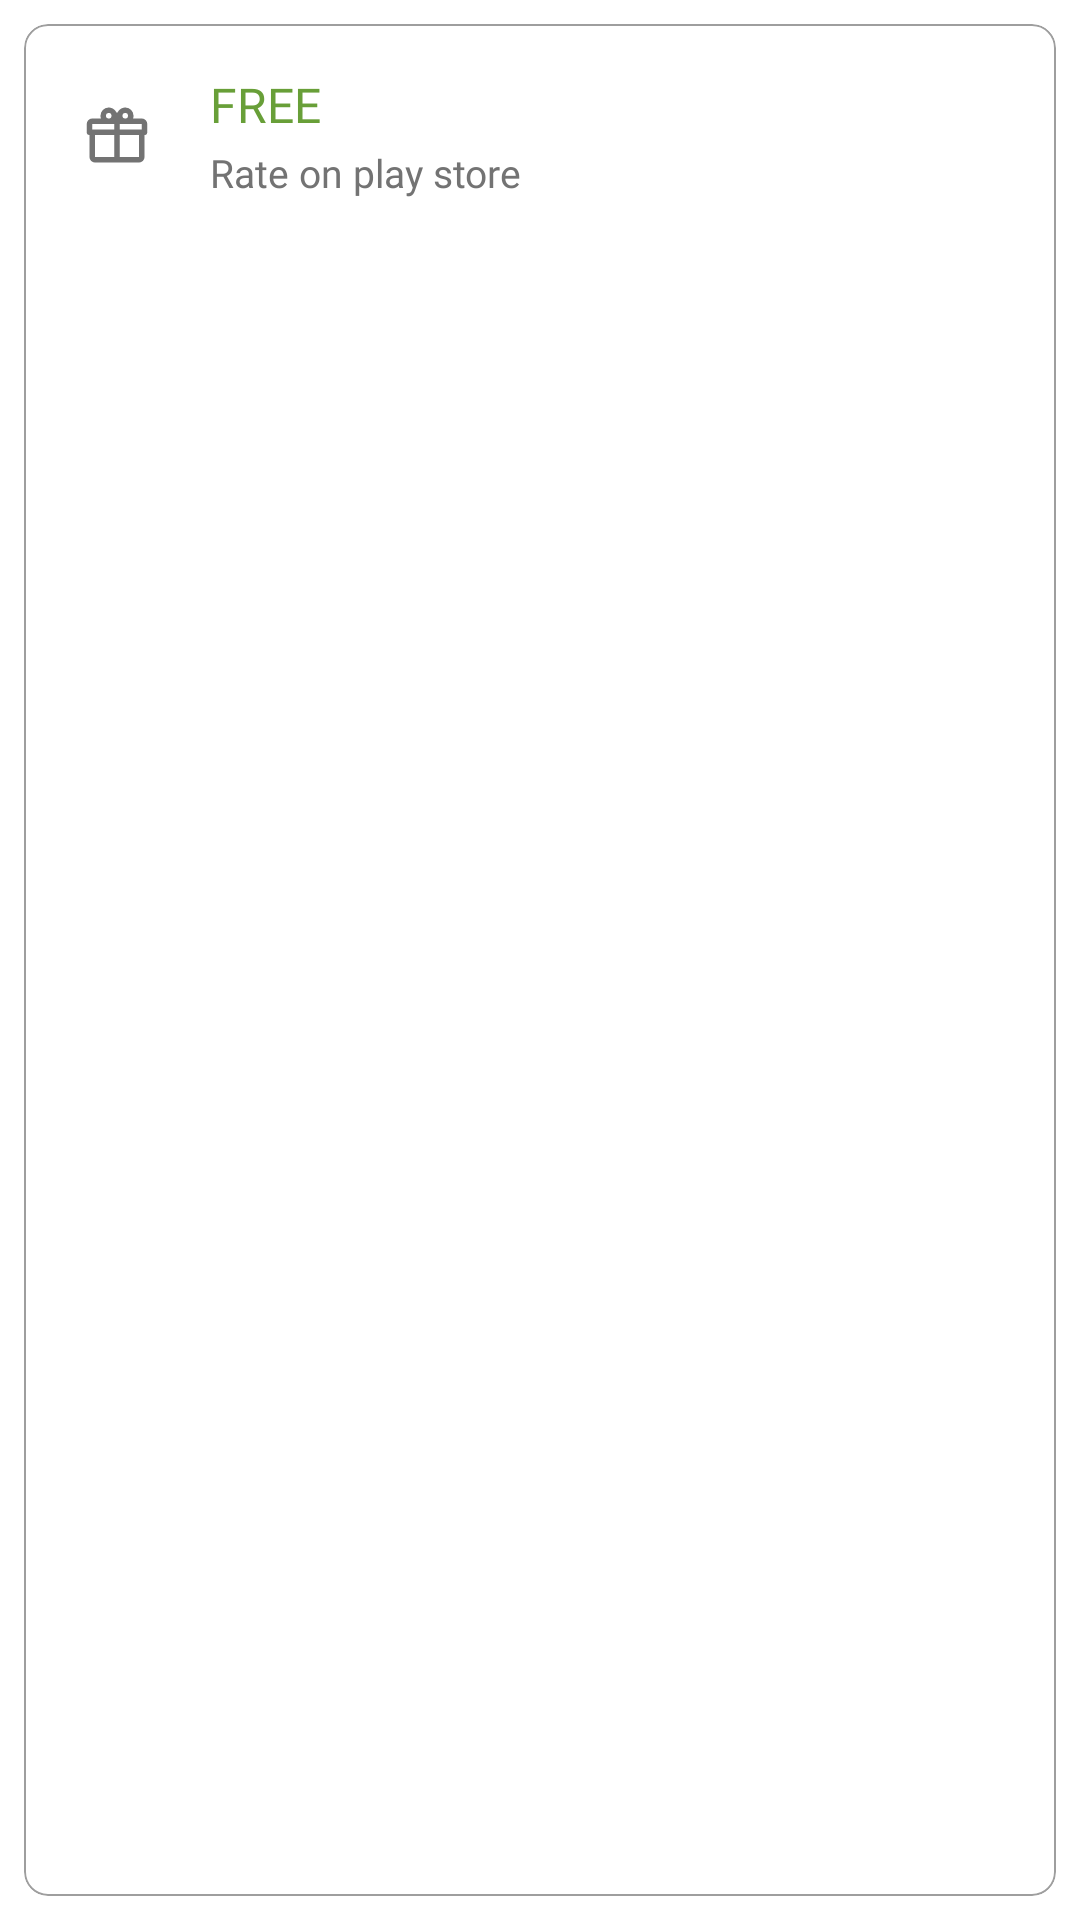

Point at icon controls on the screen. Image size 1080px×1920px, points as (x=x, y=y).
profile donate: (x=117, y=135)
